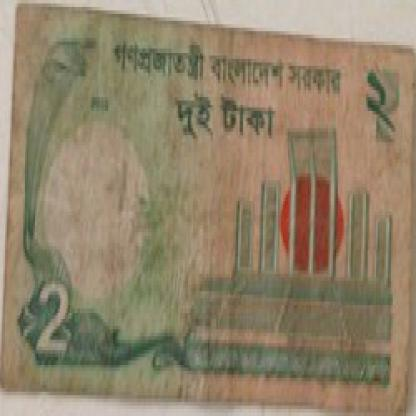two taka: (168, 86, 285, 160), (29, 278, 102, 382)
